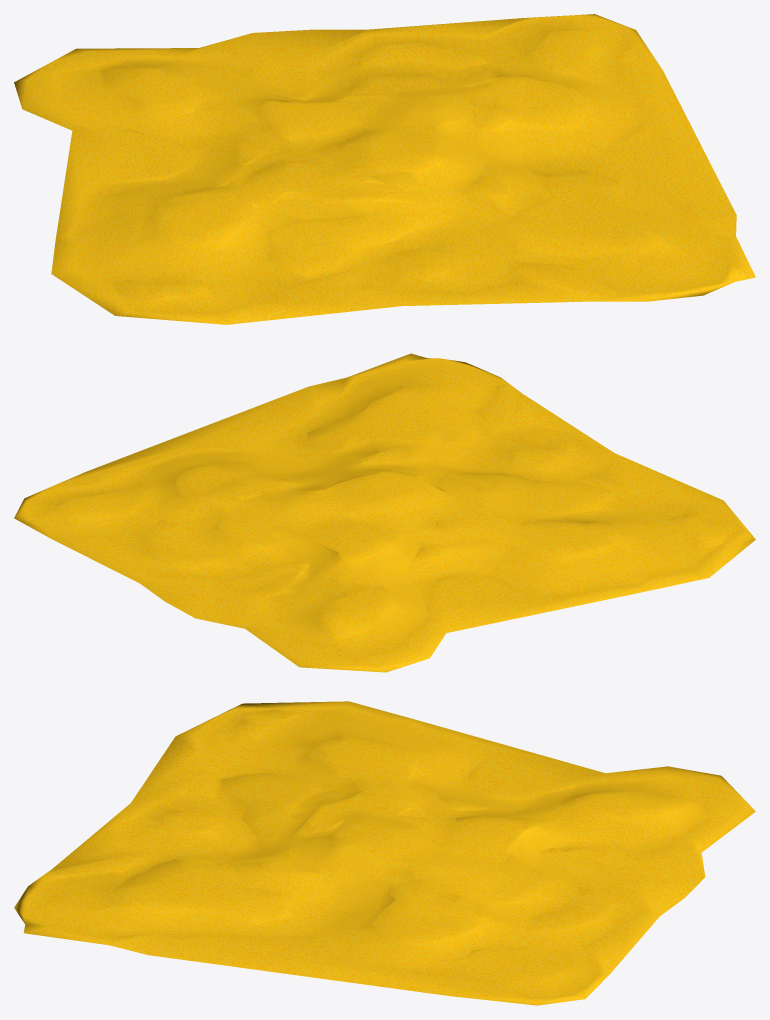
The model's file is BGN_MOUTAIN 2.fbx.
3 views of the same model, one above another, from view 1: azimuth 30°, elevation 25°; view 2: azimuth 150°, elevation 25°; view 3: azimuth 270°, elevation 25° (orthographic). The views are drawn at different scales.
Visible parts, largest first — view 1: BGN_MOUTAIN_2; view 2: BGN_MOUTAIN_2; view 3: BGN_MOUTAIN_2.
Part boxes in pixels (x1=…): BGN_MOUTAIN_2: x1=14, y1=14, x2=755, y2=324; BGN_MOUTAIN_2: x1=14, y1=353, x2=755, y2=672; BGN_MOUTAIN_2: x1=14, y1=701, x2=755, y2=1005.
Size of the model in its own units: 5702 by 219 by 5877.
